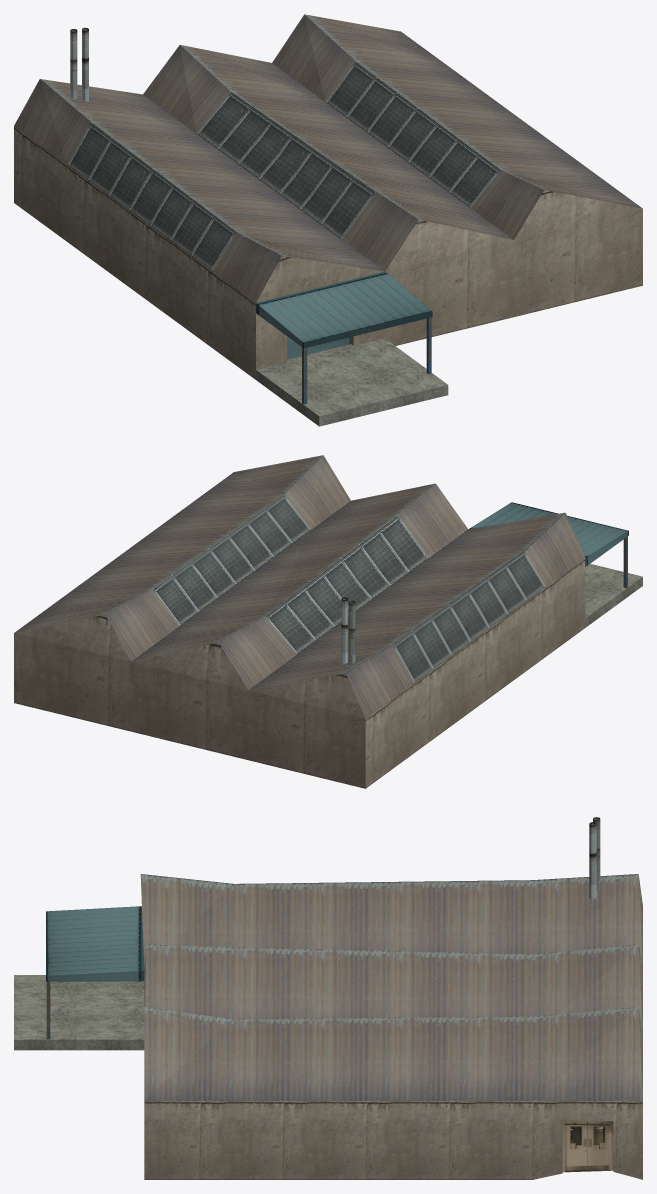
File: cuntw_weefact1_.obj
3 views of the same model, one above another, from view 1: azimuth 30°, elevation 25°; view 2: azimuth 150°, elevation 25°; view 3: azimuth 270°, elevation 25° (orthographic). The views are drawn at different scales.
Parts seen in each view (by area): view 1: cuntw_weefact1_; view 2: cuntw_weefact1_; view 3: cuntw_weefact1_.
Part boxes in pixels (x1,y1,x2,y2): cuntw_weefact1_: (14,14,642,426); cuntw_weefact1_: (14,455,642,788); cuntw_weefact1_: (14,817,642,1179).
Bounding box in the file's own units: 18 × 8.01 × 24.6.
